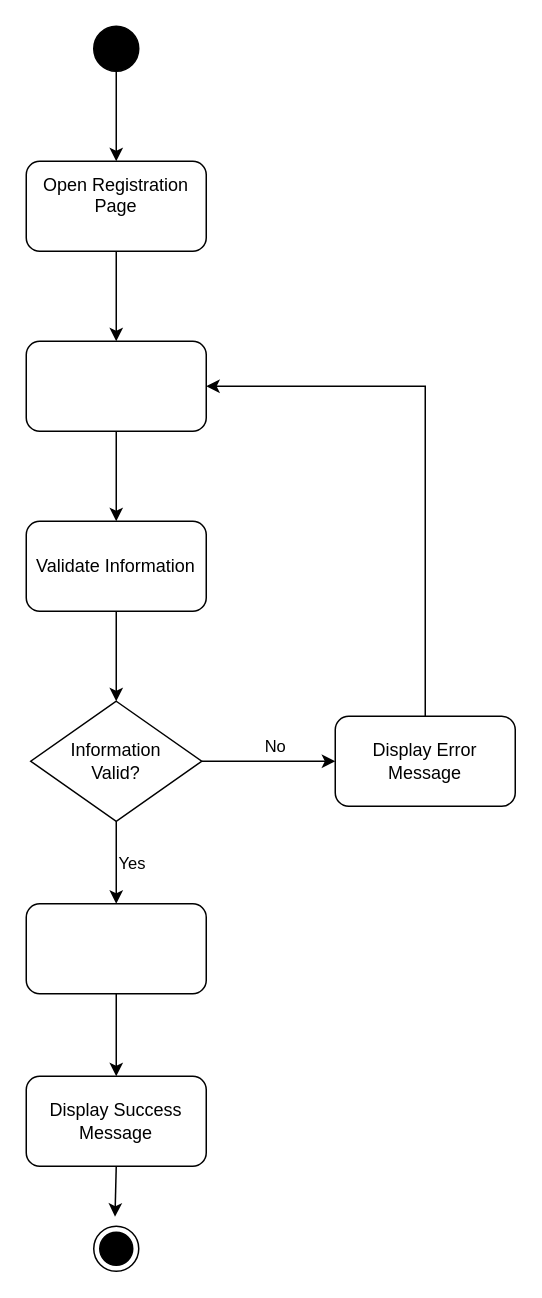
Some shapes in this 542 by 1298 pixel diagram are drawn without their labels. The box of each missing label's shape, as (x1, y1, x2, y2) in pixels:
Enter name, Email and Password: (25, 340, 206, 431)
Save Account: (25, 902, 206, 994)
